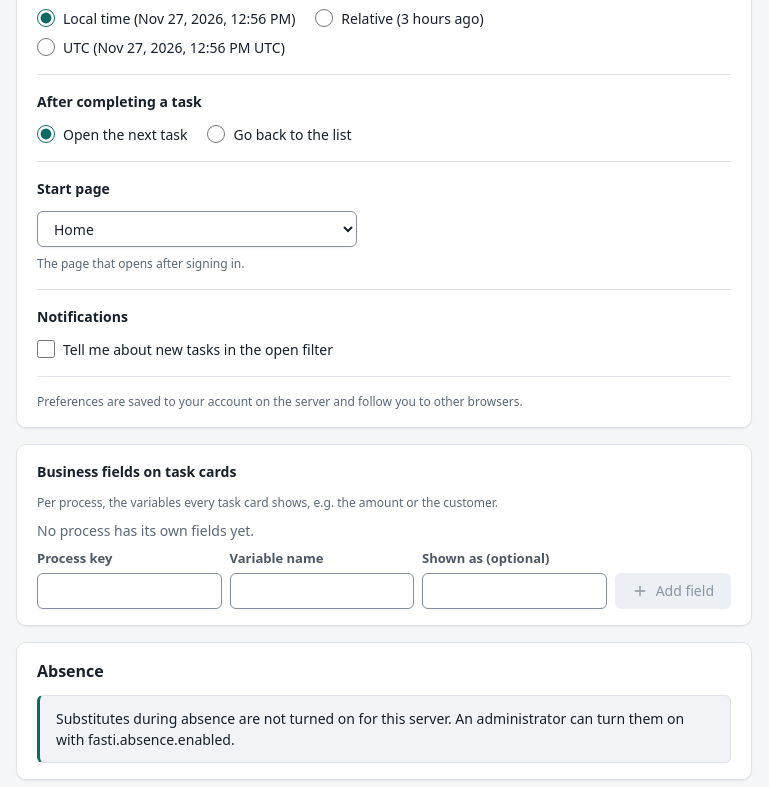
Scenario: shell › chooses the business fields of a process for its task cards
(page scrolled)
Expected: the text "No process has its own fields yet." is shown, [37,521,254,540]
In the field labelled "Process key": (129, 590) [37,572,222,608], type "invoice"
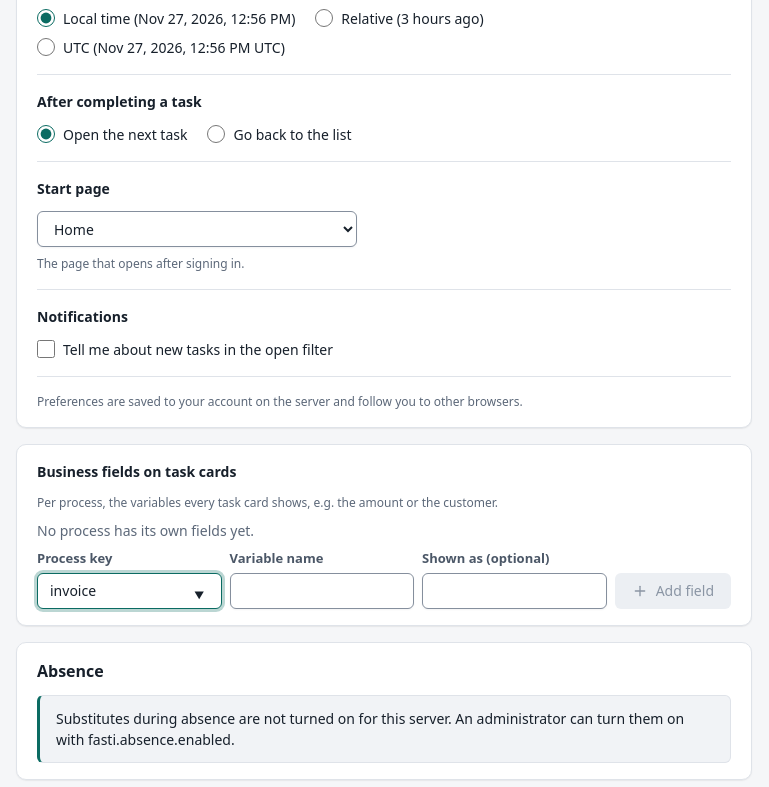
In the field labelled "Variable name": (322, 590) [230,572,414,608], type "amount"
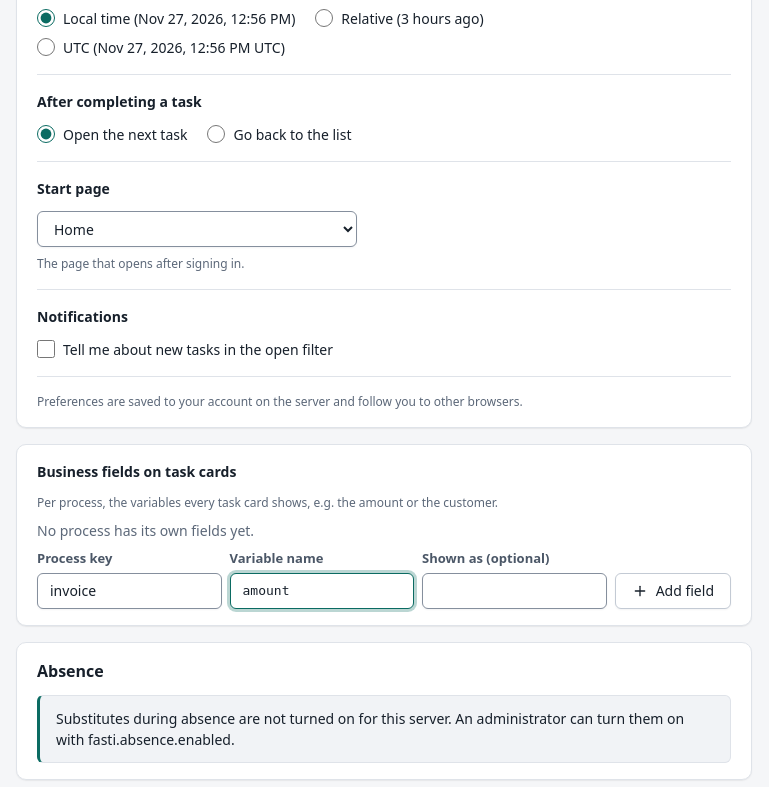
In the field labelled "Shown as (optional)": (514, 590) [422,572,607,608], type "Amount"
Then press Enter
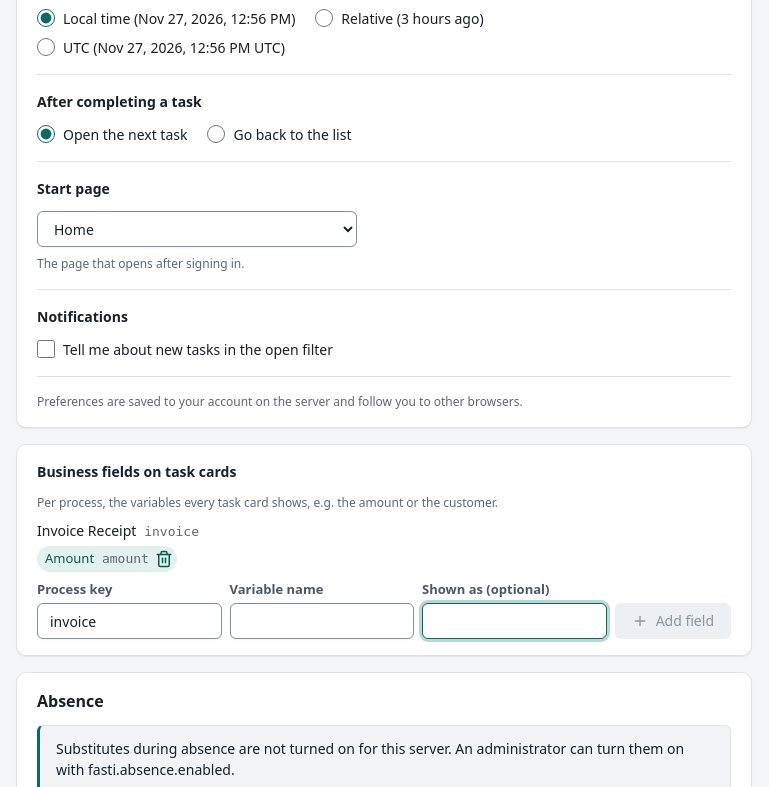
Expected: the text "Amount" is shown, [45,549,94,567]
the same variable cannot be added twice
In the field labelled "Variable name": (322, 621) [230,603,414,639], type "amount"
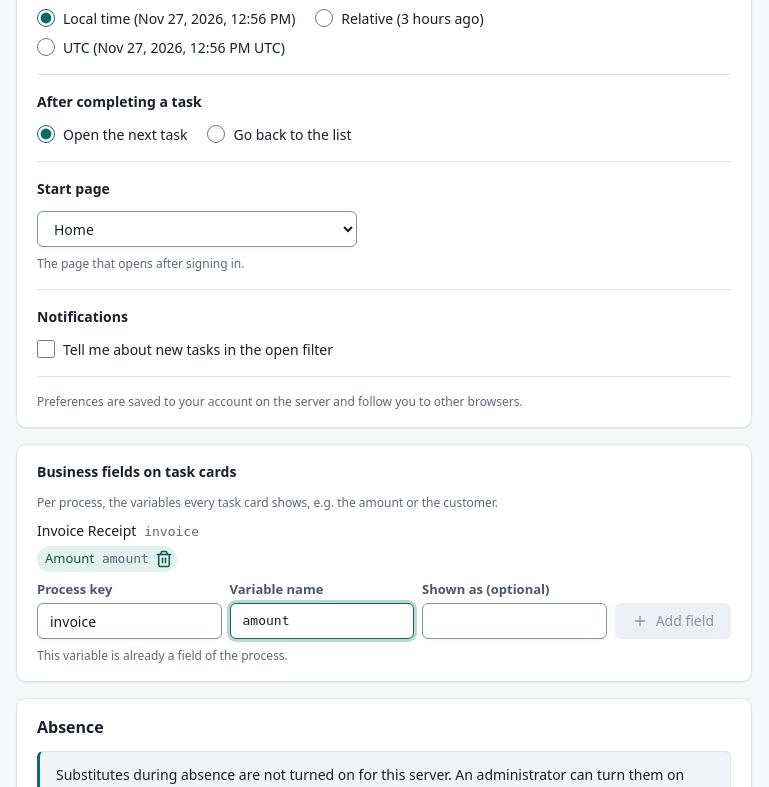
Expected: the button "Add field" is disabled, [615,603,731,639]
Expected: the text "This variable is already a field of the process." is shown, [37,647,288,664]
Click the button named "Remove Amount from Invoice Receipt": (164, 558) [153,548,175,570]
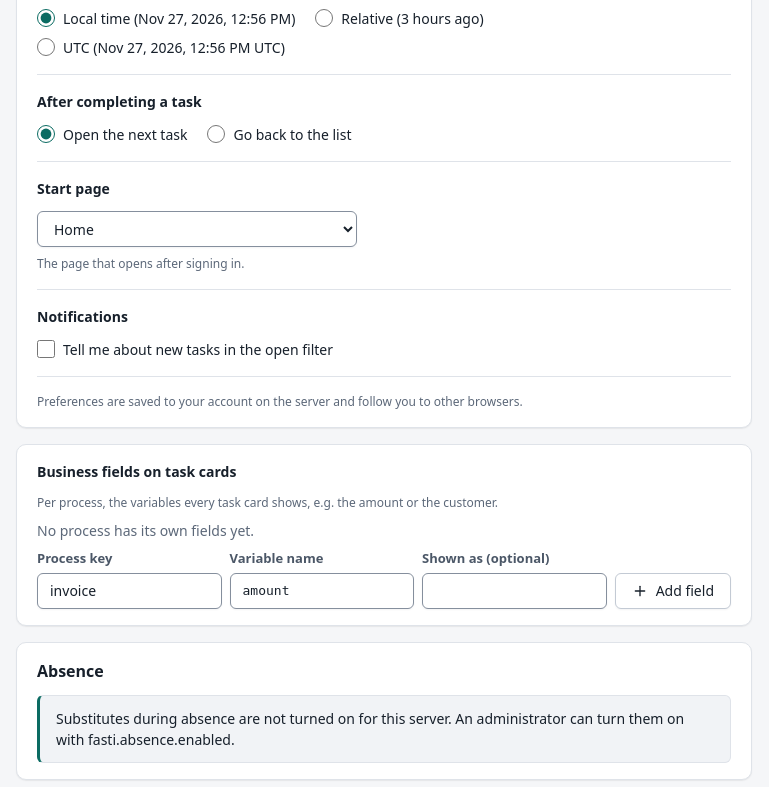
Expected: the text "No process has its own fields yet." is shown, [37,521,254,540]
